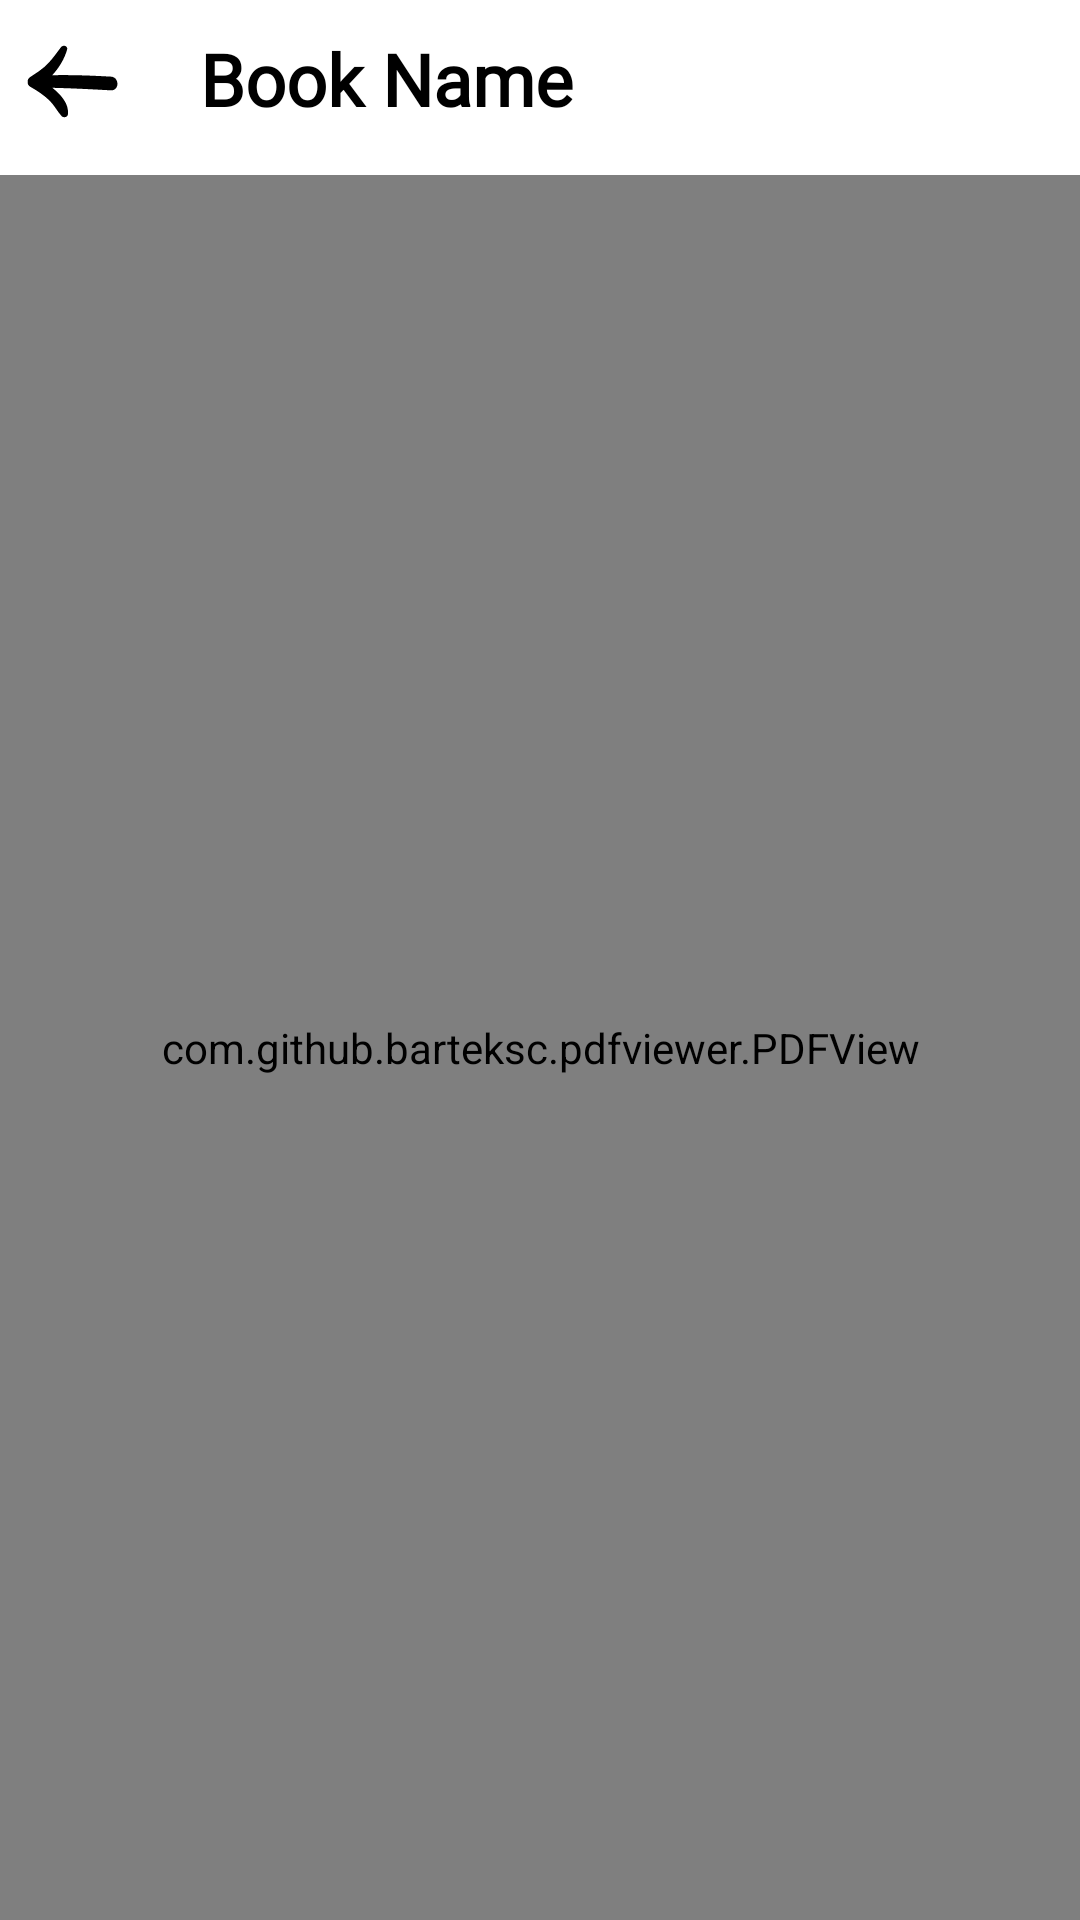

Icons on this 1080 × 1920 Android screen, each with its box as (x1=x1, y1=y1, x2=x2, y2=y2):
arrow back: (x1=27, y1=45, x2=118, y2=118)
